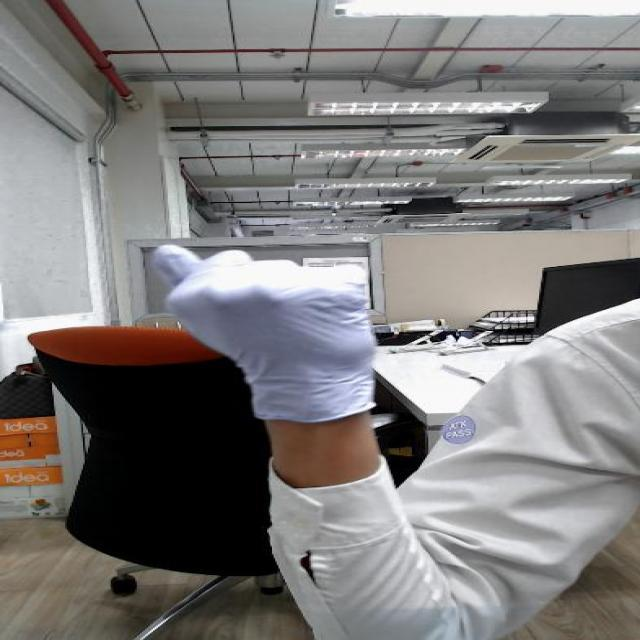with_gloves: (144, 232, 390, 379)
